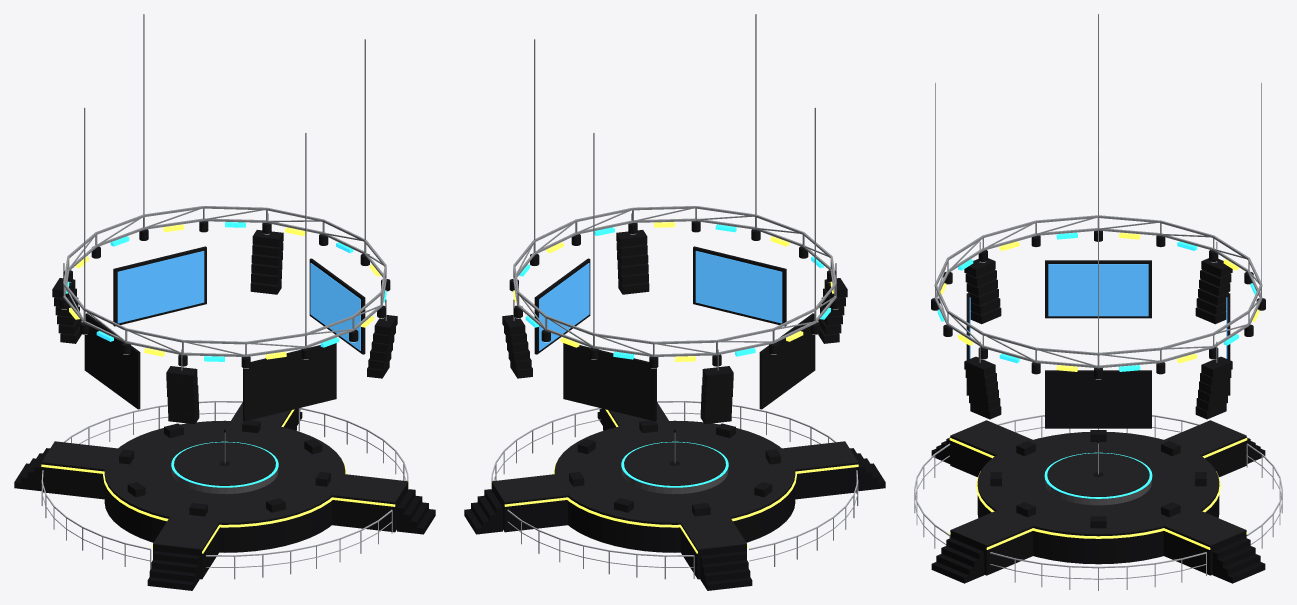
Rendered from stage.glb.
3 views of the same model, side by side, from view 1: azimuth 30°, elevation 25°; view 2: azimuth 150°, elevation 25°; view 3: azimuth 270°, elevation 25° (orthographic).
Parts seen in each view (by area): view 1: Stage; view 2: Stage; view 3: Stage.
Part boxes in pixels (box(x1,y1,x2,y2)): Stage: box(14, 14, 435, 590); Stage: box(464, 14, 885, 590); Stage: box(914, 14, 1282, 590).
Size of the model in its own units: 15.85 by 20.4 by 15.85.
